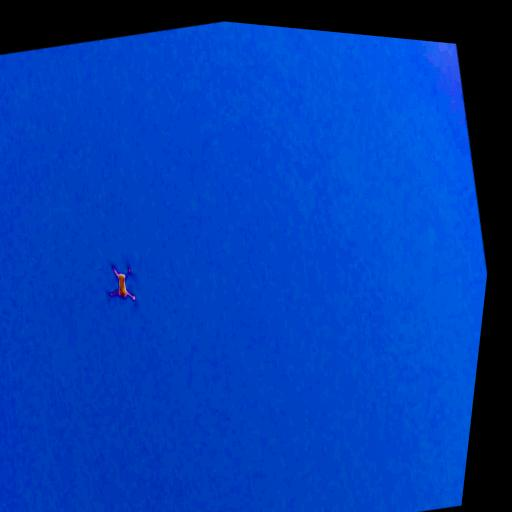drones: (93, 247, 149, 321)
